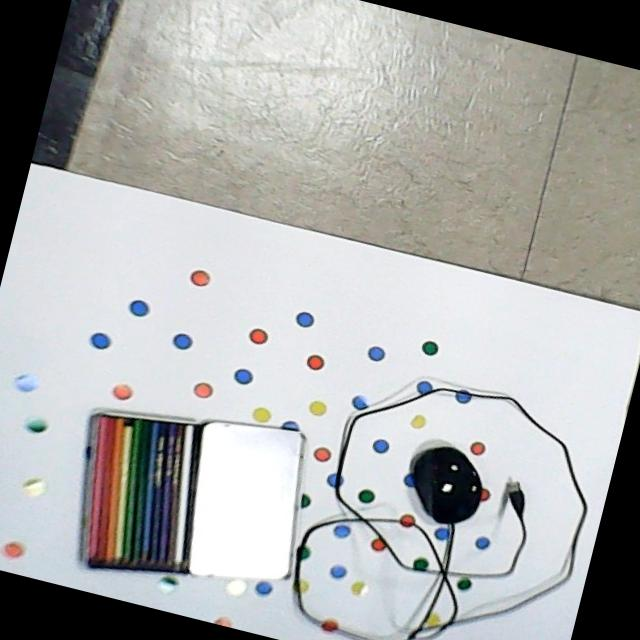color: (75, 403, 206, 579)
mouse: (402, 438, 488, 529)
